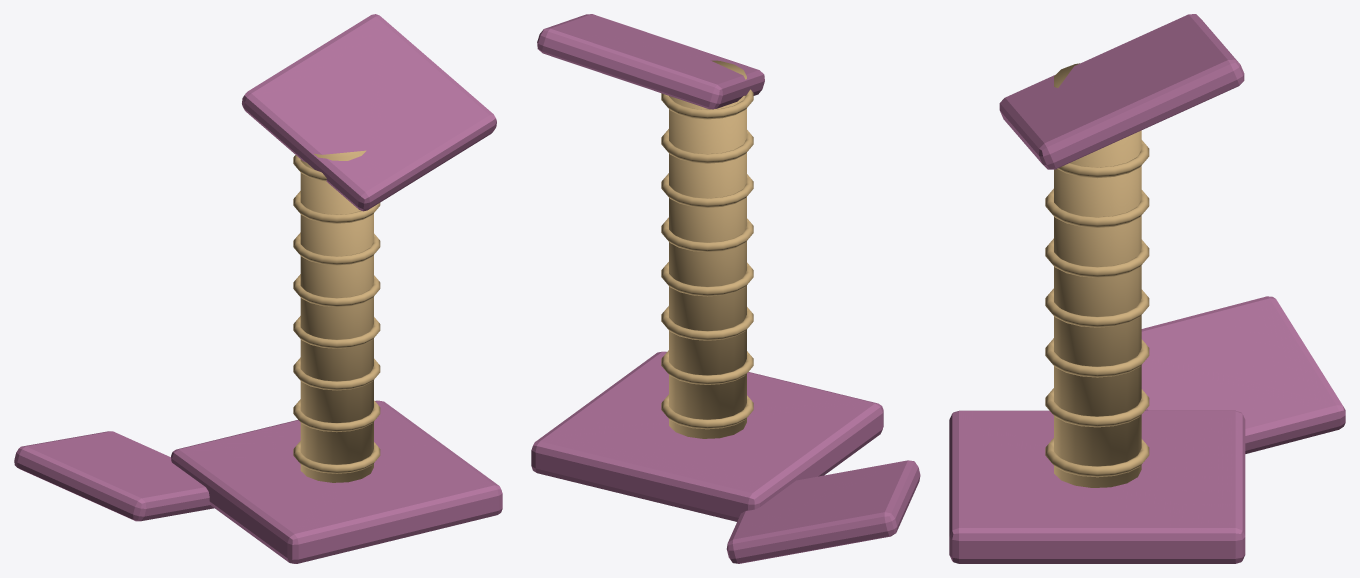
Rendered from zc_scratch_post_ruin.mobile-high.glb.
The picture shows the model from 3 angles, left to right: view 1: azimuth 30°, elevation 25°; view 2: azimuth 150°, elevation 25°; view 3: azimuth 270°, elevation 25°; orthographic projection. The views are drawn at different scales.
Parts seen in each view (by area): view 1: zc_scratch_post_ruin; view 2: zc_scratch_post_ruin; view 3: zc_scratch_post_ruin.
Boxes of the visible parts, x1=… form: zc_scratch_post_ruin: x1=14, y1=14, x2=502, y2=563; zc_scratch_post_ruin: x1=531, y1=14, x2=920, y2=563; zc_scratch_post_ruin: x1=949, y1=14, x2=1345, y2=563.
Bounding box in the file's own units: 1.09 × 1.15 × 0.8032.
1 material, 1 textured.
